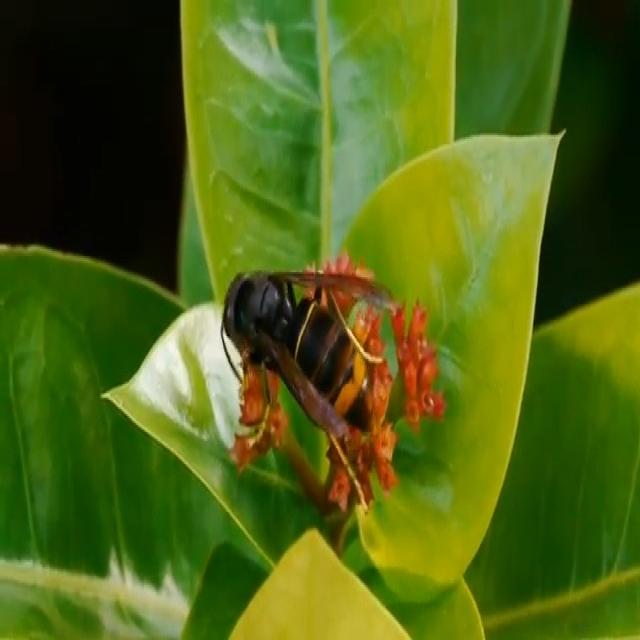Hornets: (220, 260, 396, 516)
